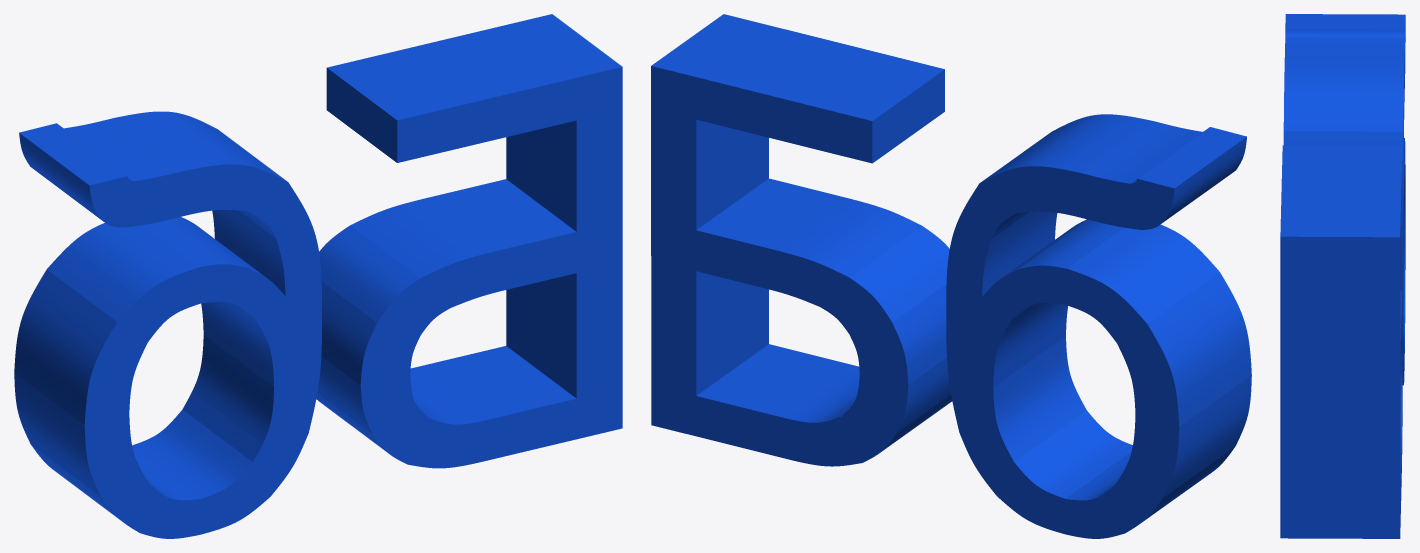
3 views of the same model, side by side, from view 1: azimuth 30°, elevation 25°; view 2: azimuth 150°, elevation 25°; view 3: azimuth 270°, elevation 25° (orthographic). The views are drawn at different scales.
Parts seen in each view (by area): view 1: Mesh_0; view 2: Mesh_0; view 3: Mesh_0.
Part boxes in pixels (x1,y1,x2,y2): Mesh_0: (14, 14, 622, 538); Mesh_0: (651, 14, 1251, 538); Mesh_0: (1280, 14, 1405, 538).
Bounding box in the file's own units: 11.11 × 7.45 × 2.69.
